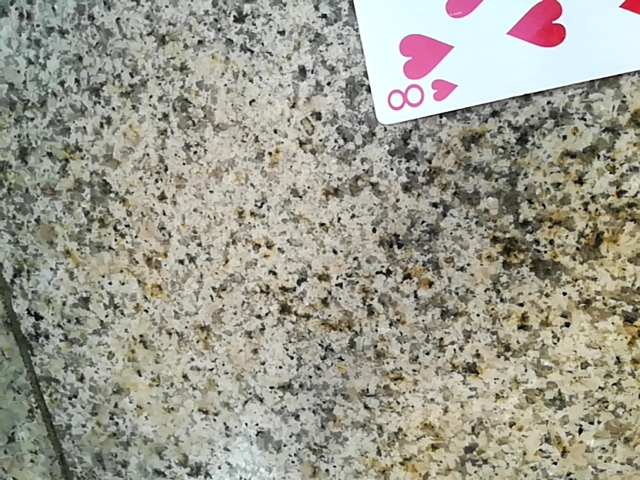hx 8: (327, 3, 639, 129)
